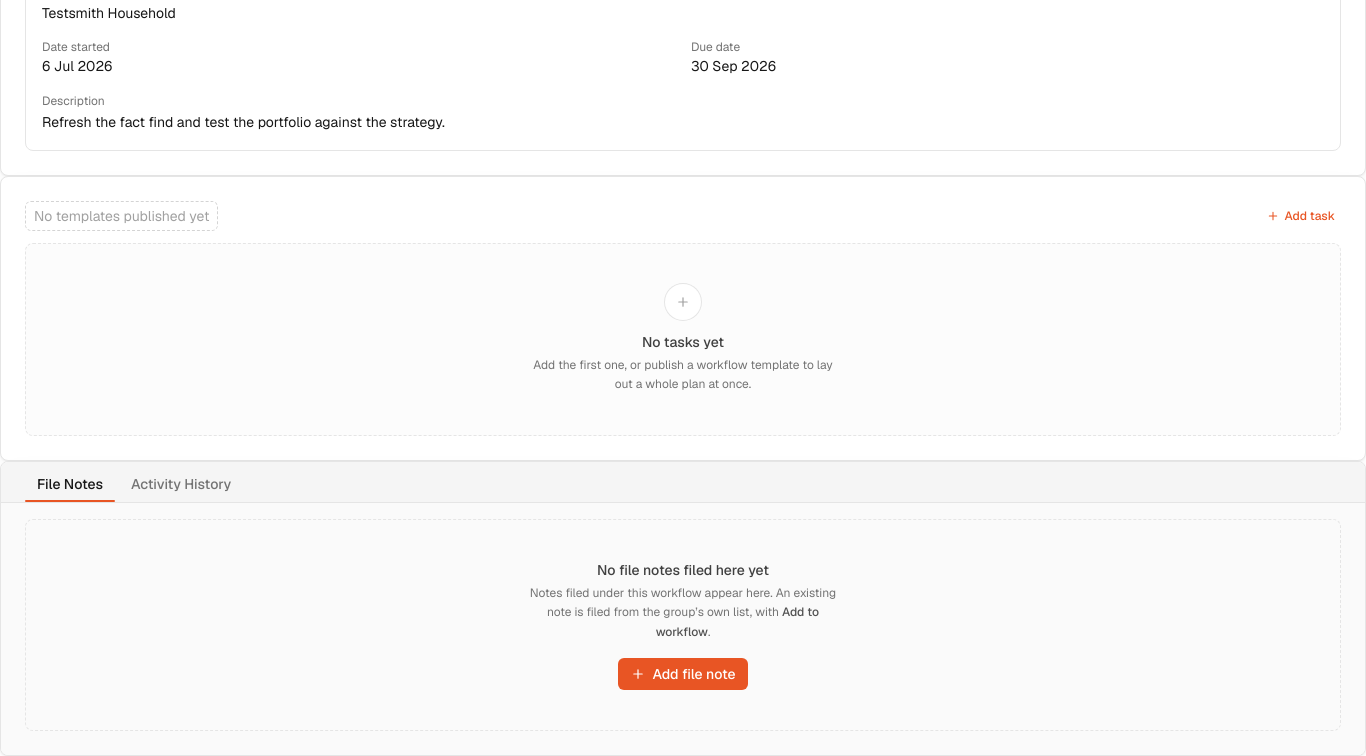
the workflow detail page › the File Notes tab offers Add file note, and the modal knows the workflow
(page scrolled)
Click the button "Add file note": {"x": 683, "y": 674} [618,658,748,690]
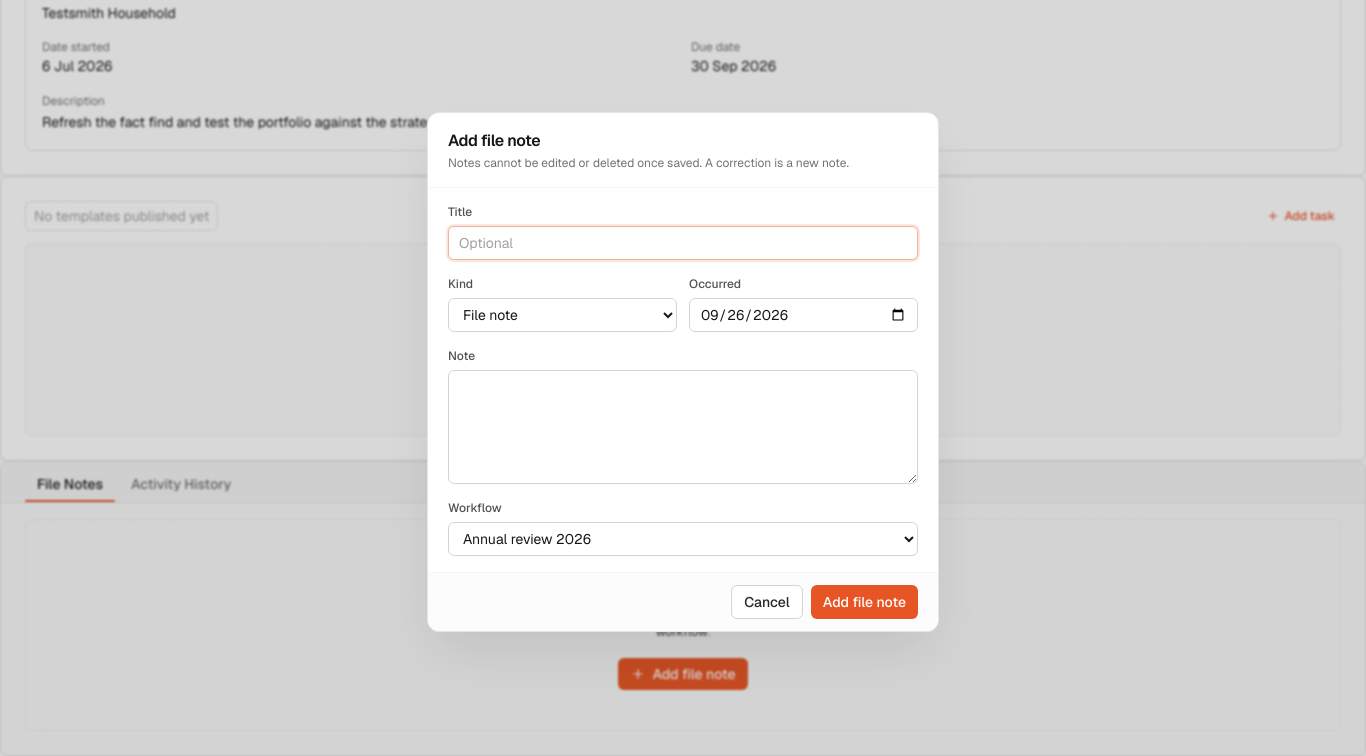
Now the dropdown labelled "Workflow" shows "Annual review 2026", box [448,522,918,556]
